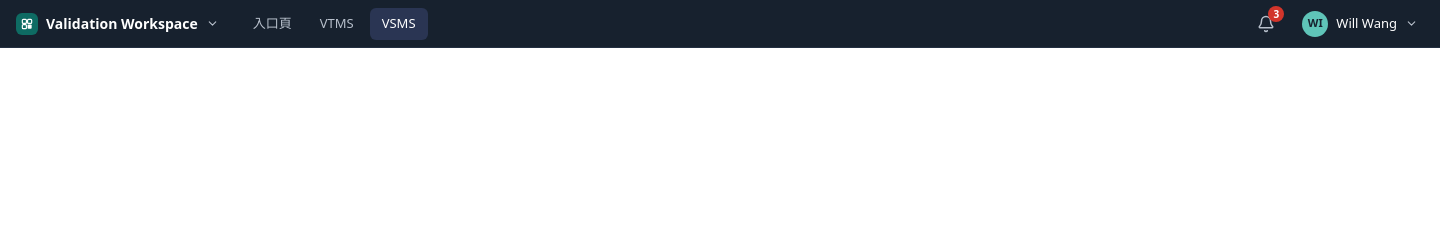
Test: Topbar：下拉的鍵盤與關閉行為 › 使用者選單：上下鍵循環、Esc 關閉並把焦點還給按鈕
The width and height of the screenshot is (1440, 250).
Click the button with aria-label "使用者選單".
click(1361, 24)  # box [1298,8,1424,40]
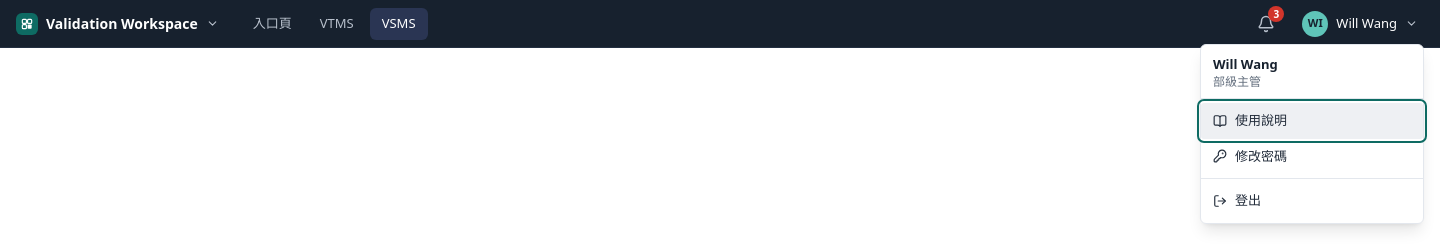
Press Arrowdown
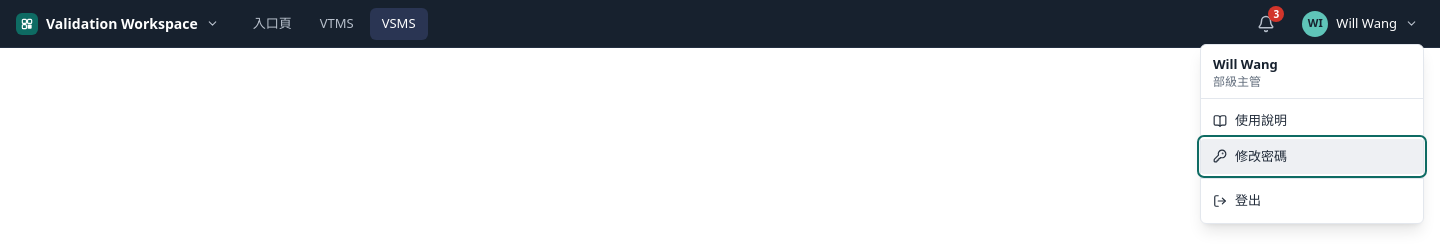
Press Arrowdown
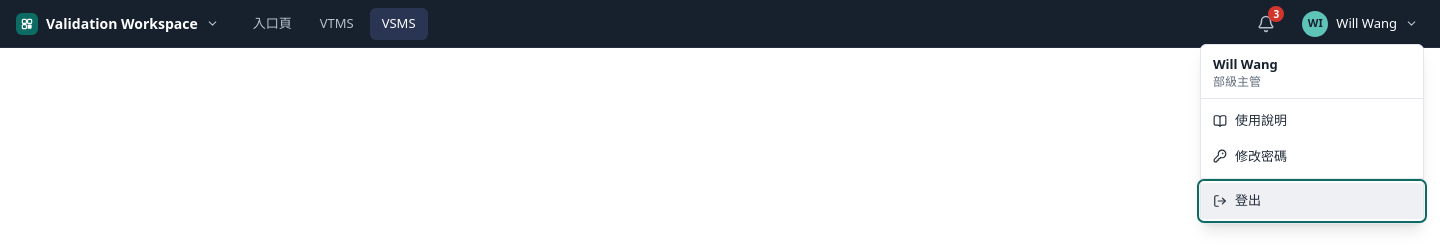
Press Arrowdown
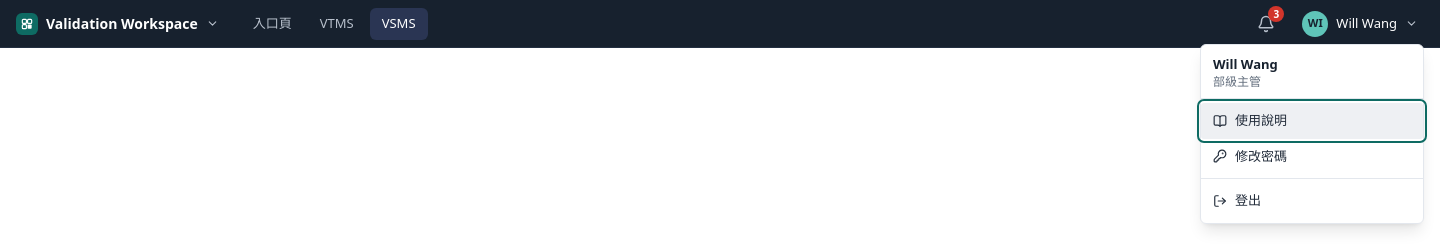
Press Escape
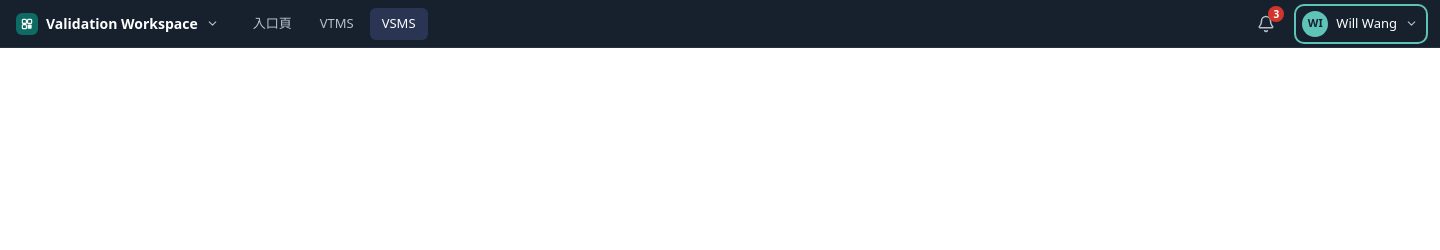
Now the menu is gone
